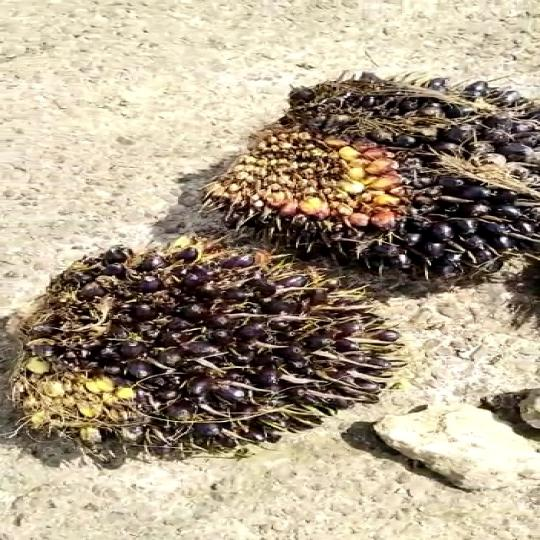mentah: (0, 228, 391, 458), (192, 68, 540, 294)
